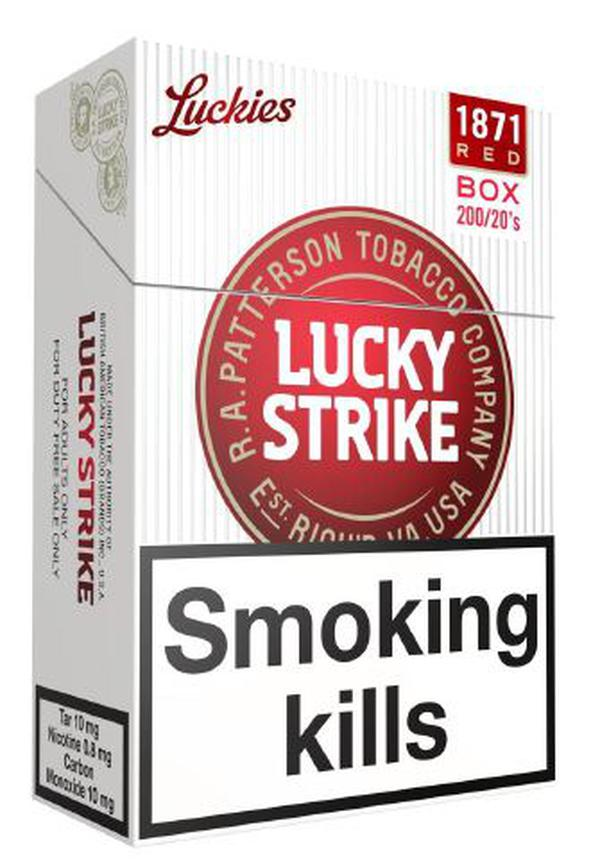lucky_strike_red: (137, 73, 545, 786)
